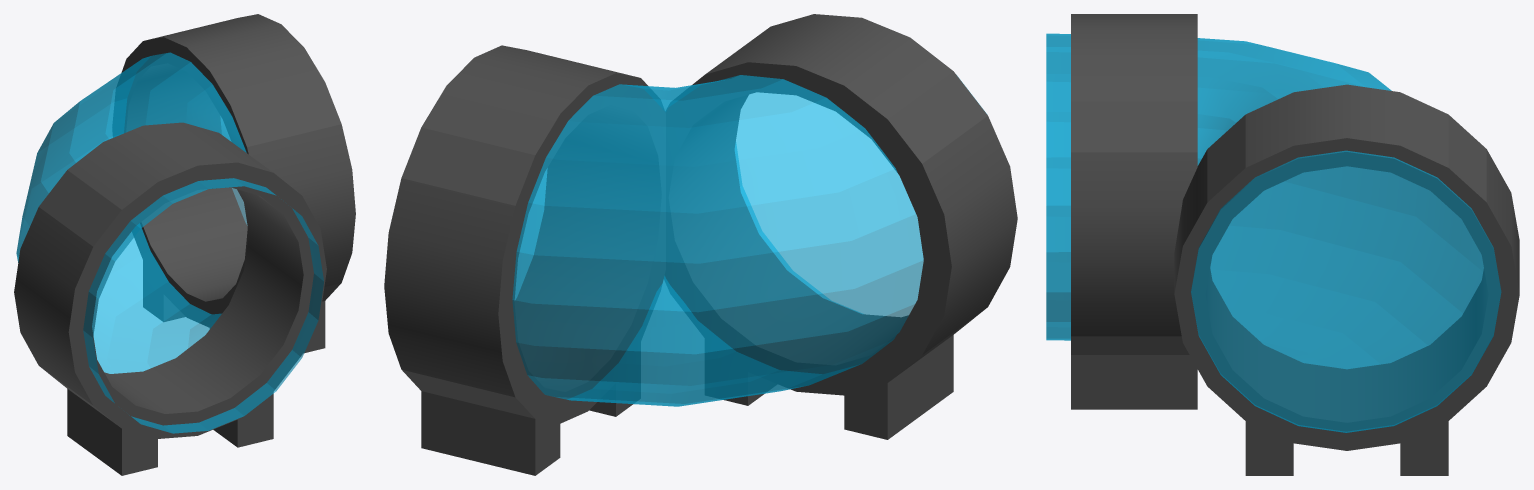
Rendered from Wall corner.fbx.
3 views of the same model, side by side, from view 1: azimuth 30°, elevation 25°; view 2: azimuth 150°, elevation 25°; view 3: azimuth 270°, elevation 25° (orthographic). The views are drawn at different scales.
Visible parts, largest first — view 1: pCylinder15; view 2: pCylinder15; view 3: pCylinder15.
Boxes of the visible parts, bbox=[...] form: pCylinder15: bbox=[14, 14, 355, 475]; pCylinder15: bbox=[384, 14, 1017, 475]; pCylinder15: bbox=[1046, 14, 1519, 475].
Bounding box in the file's own units: 1.68 × 1.42 × 1.78.
